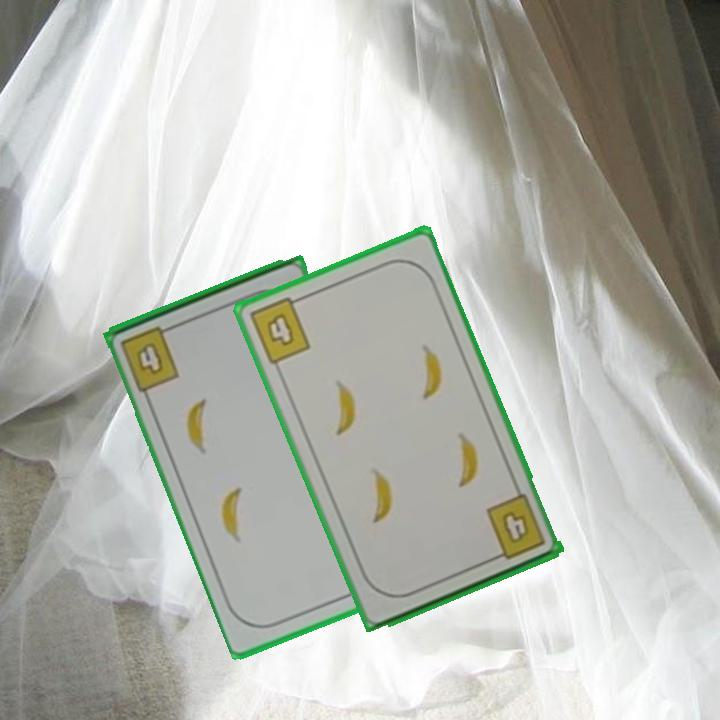4b: (245, 292, 314, 367), (482, 490, 549, 564), (117, 321, 183, 395)
